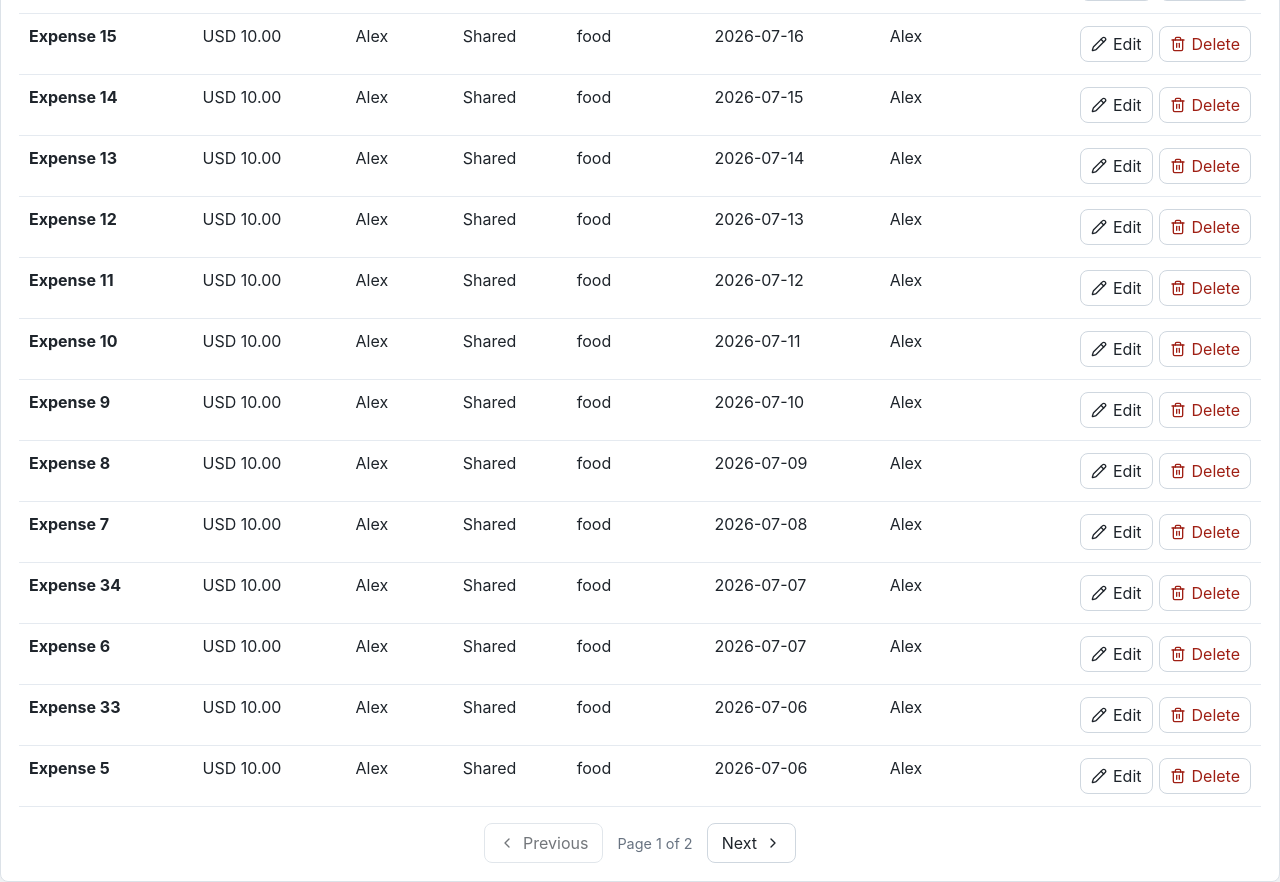
ExpenseTable pagination › moves to the next page and shows the remaining rows
(page scrolled)
Check: the button "Previous" is disabled, box [484,823,603,863]
Click the button "Next" at (751, 843), box [707,823,796,863]
(page scrolled)
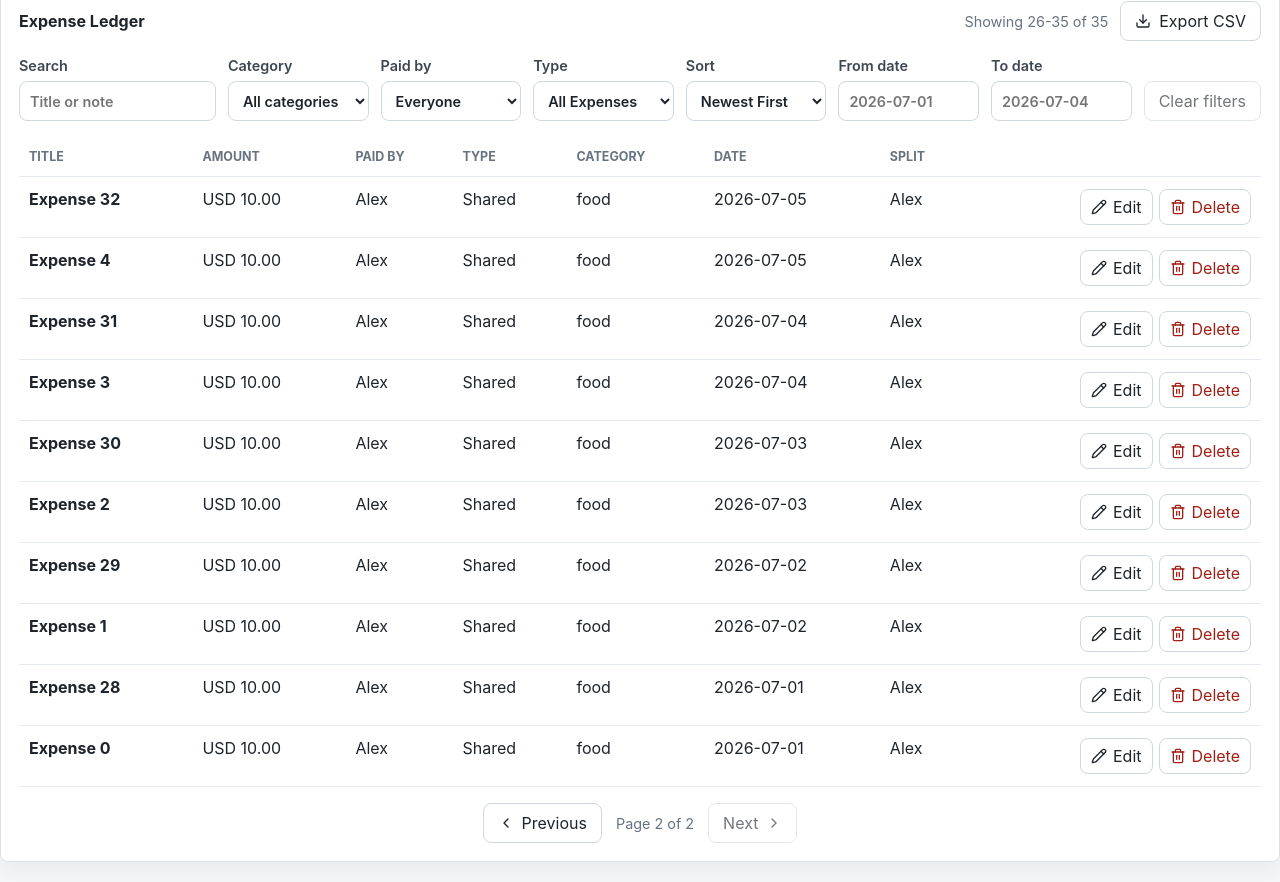
Check: the text "Page 2 of 2" is shown, box [616,814,694,832]
Check: the button "Next" is disabled, box [708,803,797,843]
Check: the number of rows is 11
